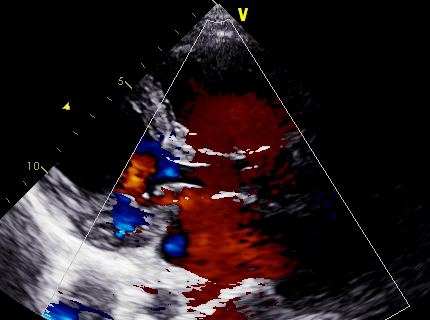MR: (124, 183, 201, 267)
